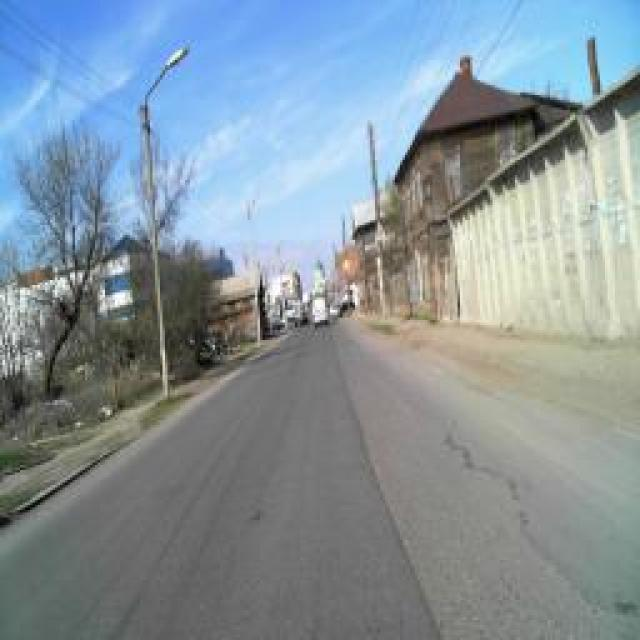sign: (344, 256, 351, 272)
